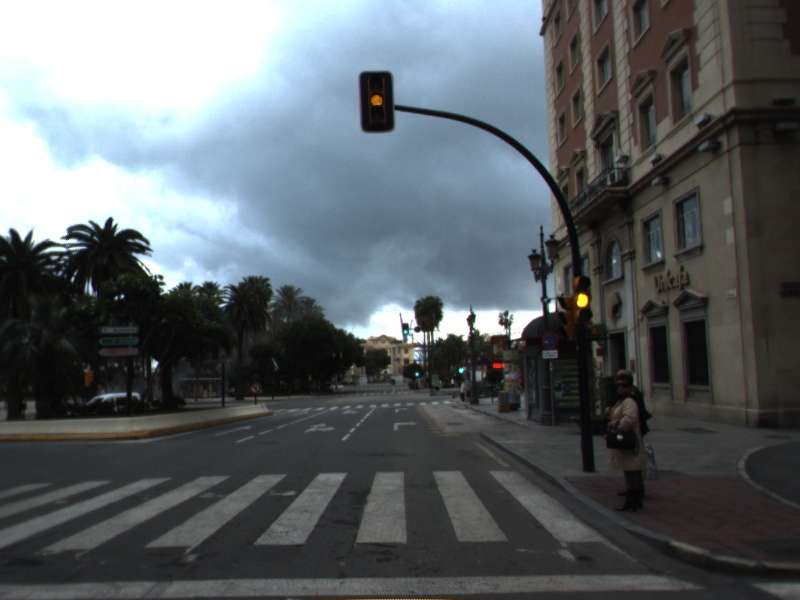RIGHT: (391, 419, 420, 433)
STRAIGHT: (212, 423, 254, 437)
STRAIGHT_RIGHT: (301, 421, 338, 435)
